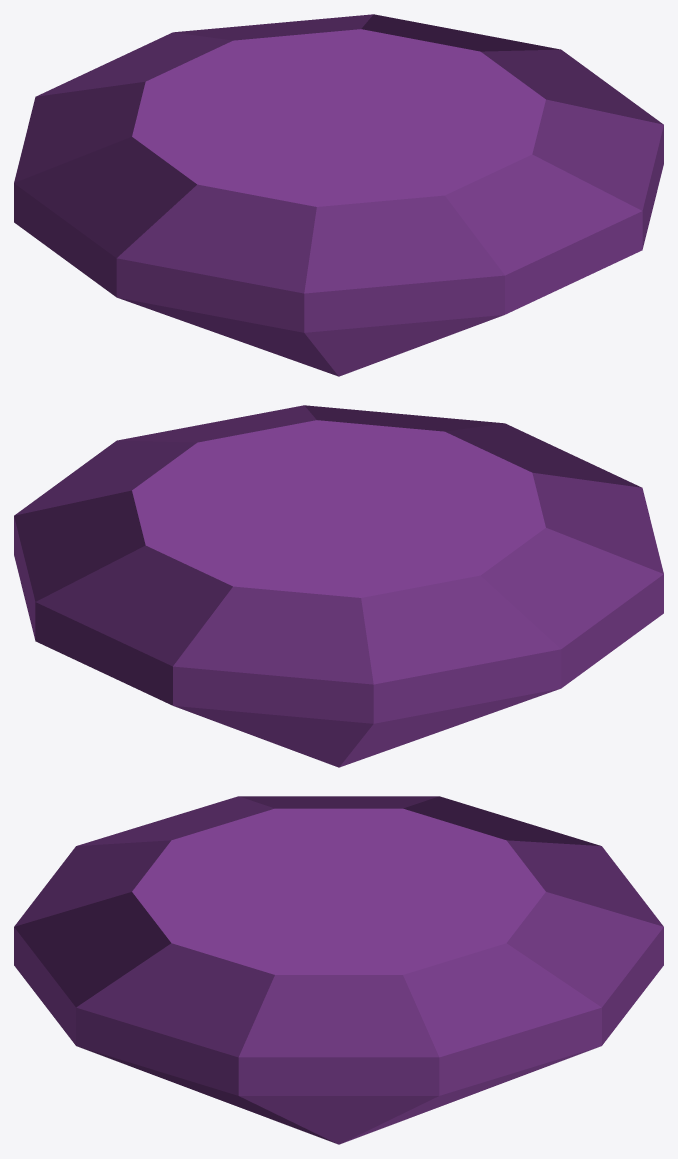
File: diamond.obj
The picture shows the model from 3 angles, top to bottom: view 1: azimuth 30°, elevation 25°; view 2: azimuth 150°, elevation 25°; view 3: azimuth 270°, elevation 25°; orthographic projection. The views are drawn at different scales.
Visible parts, largest first — view 1: Cone; view 2: Cone; view 3: Cone.
Part boxes in pixels (box(x1,y1,x2,y2)): Cone: box(14, 14, 663, 376); Cone: box(14, 405, 663, 767); Cone: box(14, 796, 663, 1144).
Bounding box in the file's own units: 4.19 × 1.89 × 4.41.
1 material, 1 textured.
